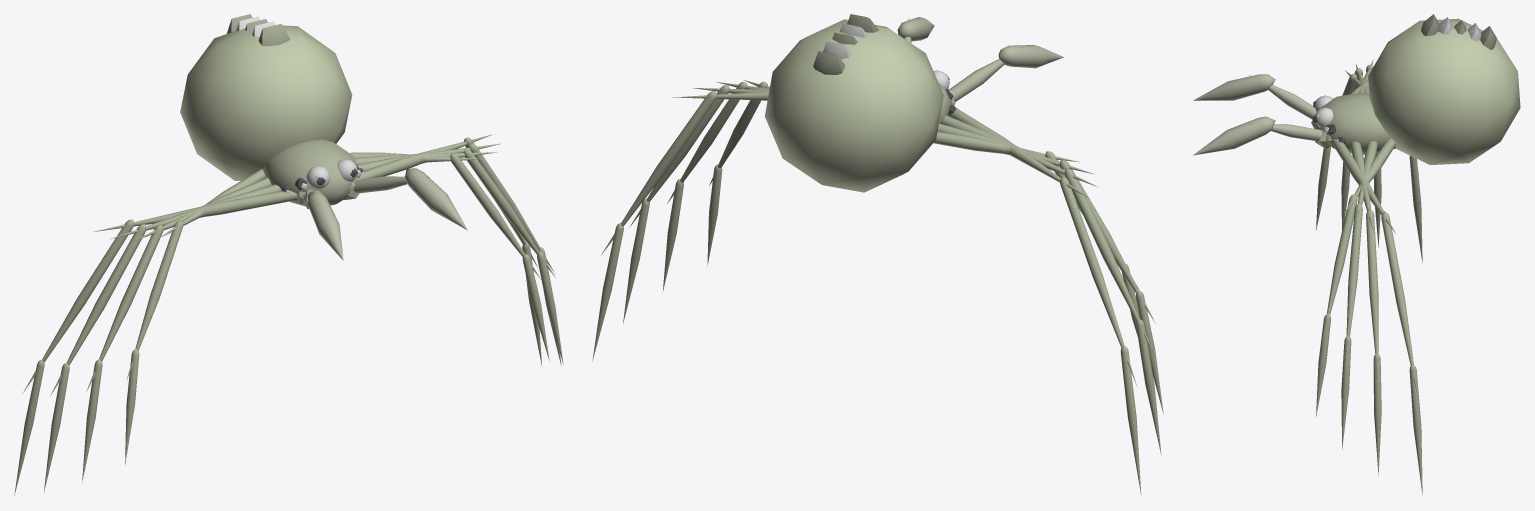
The model's file is argiope-catenulata.glb.
3 renders of one model, left to right at view 1: azimuth 30°, elevation 25°; view 2: azimuth 150°, elevation 25°; view 3: azimuth 270°, elevation 25°, orthographic. The views are drawn at different scales.
Parts seen in each view (by area): view 1: abdomen, leg0-r0, cephalothorax, leg1-r0, leg2-r0, leg3-r0, leg2-l0, leg3-l0, leg0-l0, leg1-l0, palp-l1, palp-r1 (+1 smaller); view 2: abdomen, leg0-r0, leg1-r0, leg0-l0, leg2-r0, leg1-l0, leg2-l0, leg3-l0, leg3-r0, palp-r1, palp-r0, palp-l1; view 3: abdomen, leg0-l0, cephalothorax, leg1-l0, leg2-l0, leg3-l0, palp-l1, palp-r1, leg0-r0, leg3-r0, palp-r0, palp-l0 (+2 smaller).
Boxes of the visible parts, bbox=[...] form: abdomen: bbox=[180, 14, 352, 180]; leg0-r0: bbox=[14, 190, 298, 495]; cephalothorax: bbox=[263, 139, 360, 208]; leg1-r0: bbox=[43, 184, 281, 493]; leg2-r0: bbox=[82, 177, 271, 482]; leg3-r0: bbox=[125, 169, 265, 464]; leg2-l0: bbox=[354, 149, 563, 364]; leg3-l0: bbox=[349, 152, 549, 360]; leg0-l0: bbox=[360, 134, 542, 367]; leg1-l0: bbox=[357, 143, 561, 366]; palp-l1: bbox=[405, 168, 467, 230]; palp-r1: bbox=[308, 192, 343, 260]; abdomen: bbox=[764, 14, 943, 192]; leg0-r0: bbox=[948, 108, 1141, 495]; leg1-r0: bbox=[941, 115, 1161, 455]; leg0-l0: bbox=[592, 91, 768, 361]; leg2-r0: bbox=[937, 123, 1163, 413]; leg1-l0: bbox=[623, 85, 769, 323]; leg2-l0: bbox=[662, 81, 769, 292]; leg3-l0: bbox=[707, 80, 769, 266]; leg3-r0: bbox=[933, 131, 1139, 336]; palp-r1: bbox=[998, 45, 1063, 68]; palp-r0: bbox=[949, 46, 1024, 101]; palp-l1: bbox=[897, 17, 934, 41]; abdomen: bbox=[1368, 14, 1520, 164]; leg0-l0: bbox=[1331, 139, 1422, 494]; cephalothorax: bbox=[1311, 92, 1395, 154]; leg1-l0: bbox=[1350, 141, 1381, 475]; leg2-l0: bbox=[1341, 141, 1377, 449]; leg3-l0: bbox=[1316, 138, 1395, 416]; palp-l1: bbox=[1193, 116, 1275, 155]; palp-r1: bbox=[1193, 74, 1275, 100]; leg0-r0: bbox=[1350, 79, 1422, 262]; leg3-r0: bbox=[1316, 70, 1368, 230]; palp-r0: bbox=[1249, 75, 1316, 119]; palp-l0: bbox=[1249, 123, 1322, 141].
Bounding box in the file's own units: 1.15 × 0.8357 × 0.6853.
